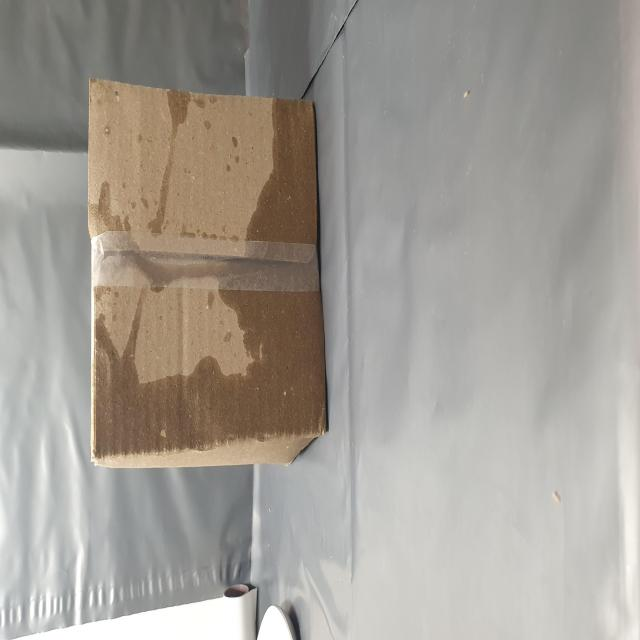wet: (110, 166, 304, 580)
